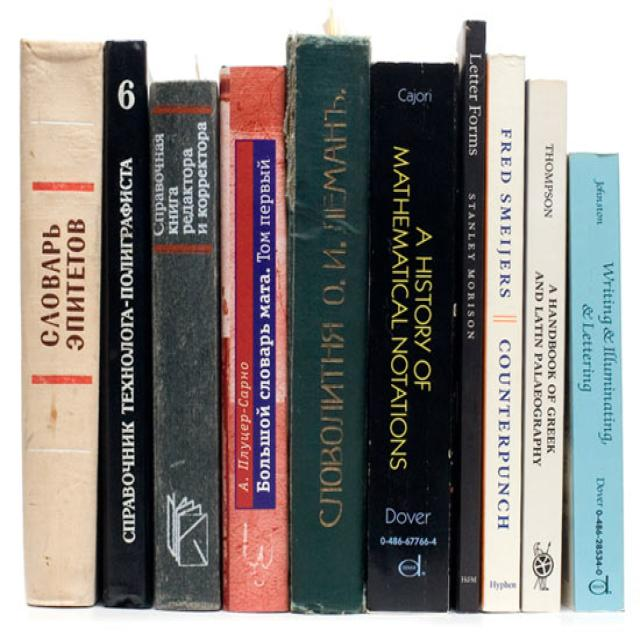book: (364, 62, 457, 611), (289, 37, 370, 614), (21, 38, 103, 606), (222, 68, 288, 611), (152, 83, 219, 610), (101, 41, 149, 608), (567, 154, 625, 610), (482, 56, 525, 613), (522, 81, 567, 613), (458, 19, 485, 614)
